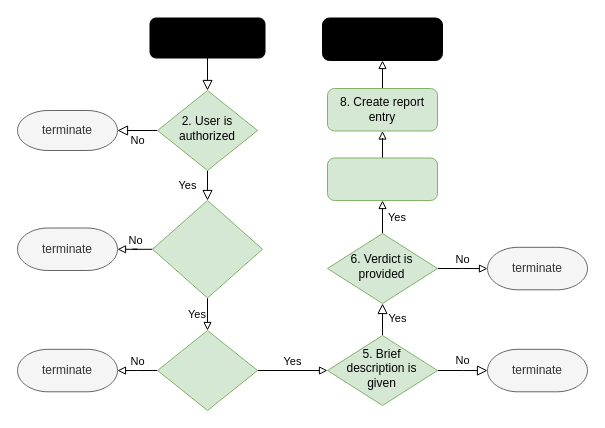
Some shapes in this 605 by 428 pixel diagram are drawn without their labels. Each missing label, with the centre of its shape:
1. Post: the point at 207,37
3. Referenced resource is published: the point at 207,249
4. Report URI is defined: the point at 207,370
7. Generate ID: the point at 382,178
9. Persist report: the point at 382,38
